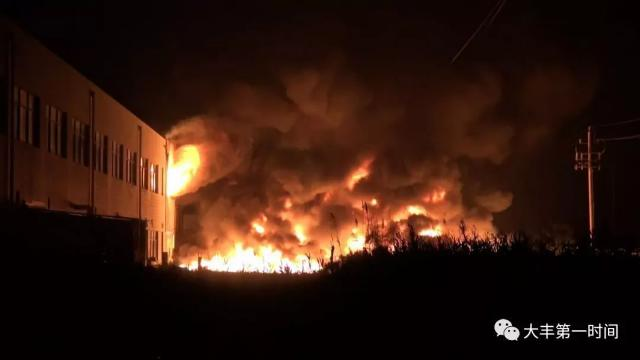fire: (202, 248, 321, 271), (165, 145, 197, 197), (341, 228, 367, 251), (292, 223, 310, 244), (248, 217, 266, 233), (416, 226, 442, 236), (180, 256, 198, 268), (404, 206, 424, 214)
